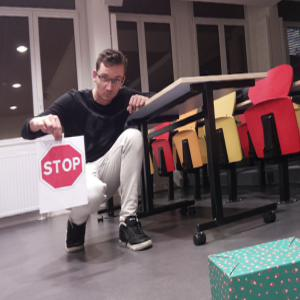small: (206, 235, 299, 300)
